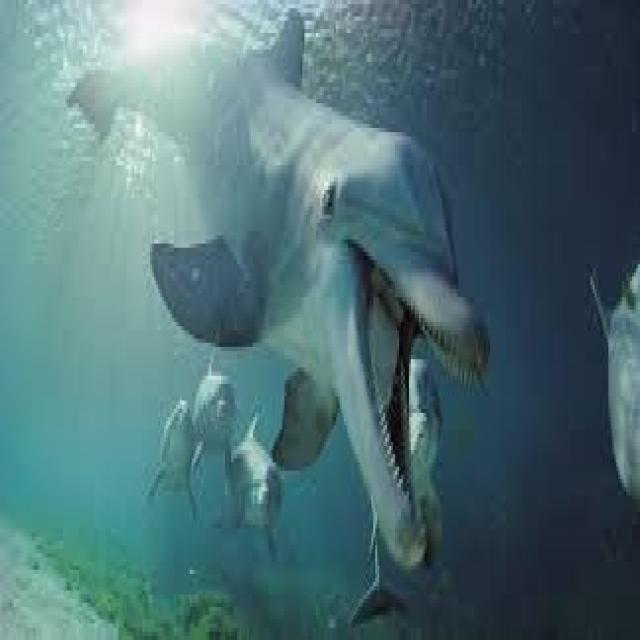dolphin: (120, 49, 526, 550)
